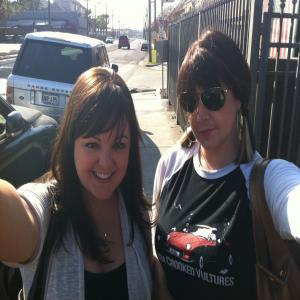Vehicle-registration-plate: (41, 93, 60, 107)
